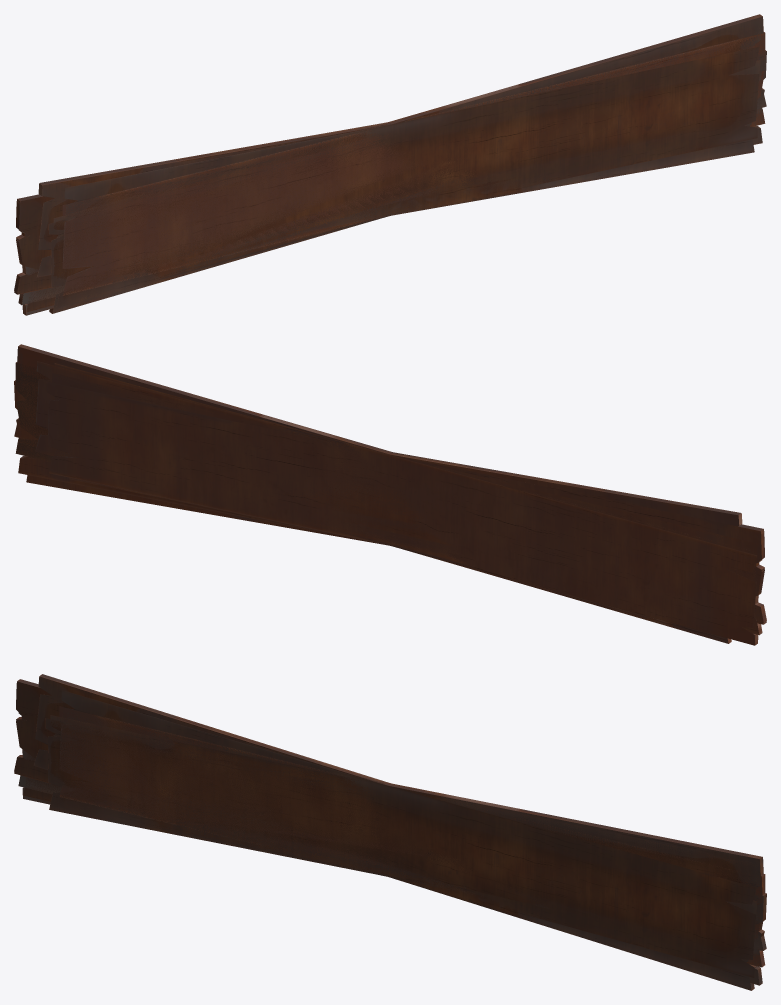
File: Plank.fbx
The picture shows the model from 3 angles, top to bottom: view 1: azimuth 30°, elevation 25°; view 2: azimuth 150°, elevation 25°; view 3: azimuth 330°, elevation 25°; orthographic projection.
Parts seen in each view (by area): view 1: Plank (3), Plank (12), Plank (2), Plank (1), Plank (4), Plank (6), Plank (5), Plank (8), Plank (10); view 2: Plank (9), Plank (8), Plank (7), Plank (10), Plank (11), Plank (1), Plank (2), Plank (4), Plank (12), Plank (6); view 3: Plank (2), Plank (3), Plank (4), Plank (12), Plank (1), Plank (6), Plank (8), Plank (5).
Boxes of the visible parts, bbox=[...] form: Plank (3): bbox=[54, 46, 759, 286]; Plank (12): bbox=[62, 32, 765, 295]; Plank (2): bbox=[48, 14, 766, 313]; Plank (1): bbox=[36, 60, 760, 277]; Plank (4): bbox=[53, 27, 762, 308]; Plank (6): bbox=[64, 50, 766, 274]; Plank (5): bbox=[70, 33, 765, 280]; Plank (8): bbox=[14, 197, 54, 294]; Plank (10): bbox=[18, 230, 64, 305]; Plank (9): bbox=[54, 363, 758, 645]; Plank (8): bbox=[46, 381, 766, 624]; Plank (7): bbox=[35, 361, 759, 633]; Plank (10): bbox=[52, 373, 762, 635]; Plank (11): bbox=[69, 444, 766, 622]; Plank (1): bbox=[26, 453, 742, 545]; Plank (2): bbox=[14, 344, 731, 643]; Plank (4): bbox=[18, 352, 724, 638]; Plank (12): bbox=[15, 362, 52, 461]; Plank (6): bbox=[14, 380, 507, 538]; Plank (2): bbox=[45, 718, 766, 950]; Plank (3): bbox=[322, 768, 756, 977]; Plank (4): bbox=[50, 715, 760, 954]; Plank (12): bbox=[59, 706, 765, 967]; Plank (1): bbox=[33, 674, 757, 990]; Plank (6): bbox=[59, 690, 766, 985]; Plank (8): bbox=[14, 683, 51, 783]; Plank (5): bbox=[67, 708, 763, 966].
Size of the model in its own units: 1.48 by 0.0108 by 0.2659.
12 materials, 12 textured.
